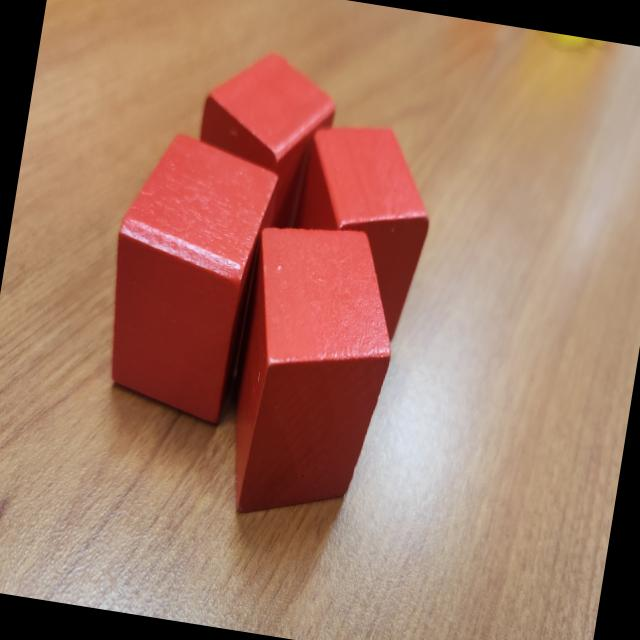red: (216, 213, 411, 535), (90, 126, 286, 437), (282, 115, 444, 347), (184, 44, 342, 242)
